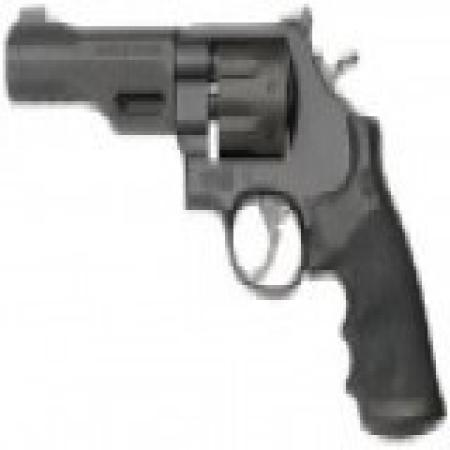Pistol: (17, 3, 433, 428)
